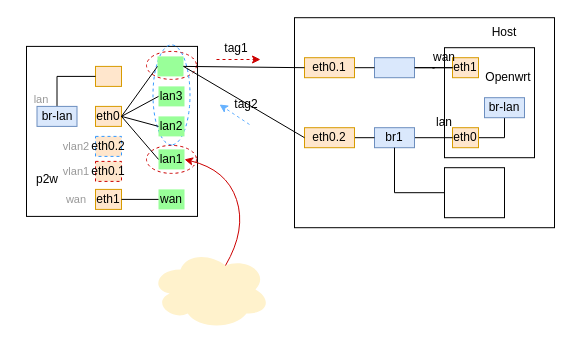
The diagram is 572 pixels wide and 347 high, and some of its shapes have lost their labels. Here are the shapes that lost their labels. From the top down, the centre of each, then its label:
[108,75]: wlan1
[170,66]: lan4
[394,67]: br0
[474,192]: LXC容器
[210,289]: school
